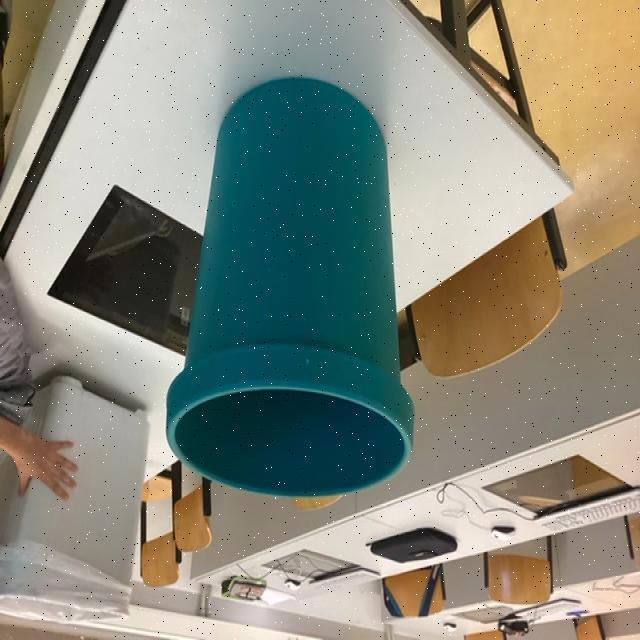garbage container: (147, 53, 416, 551)
